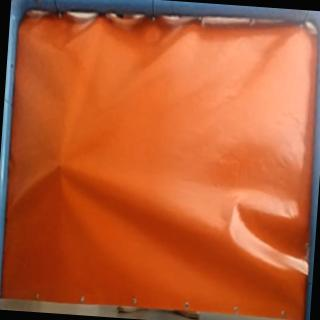Hit-hRxx: (49, 156, 73, 174)
